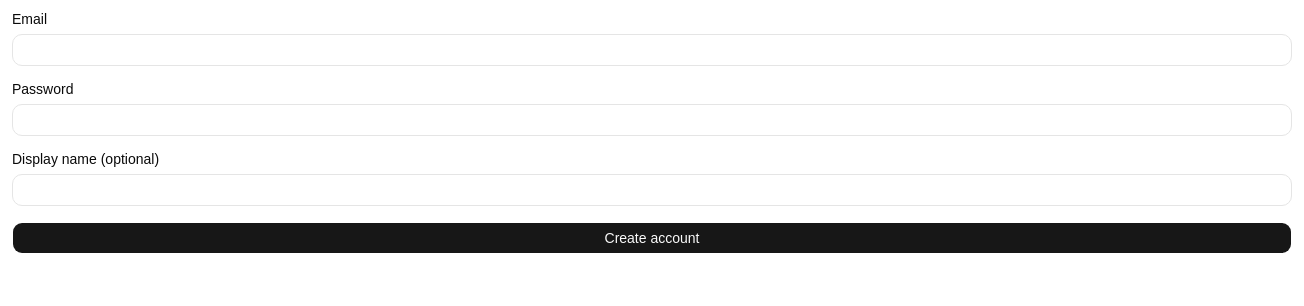
Test: RegisterForm › surfaces an unexpected server error at the form level
Type "grace@example.com" into the field labelled "Email". click: (652, 50)
box: [12,34,1292,66]
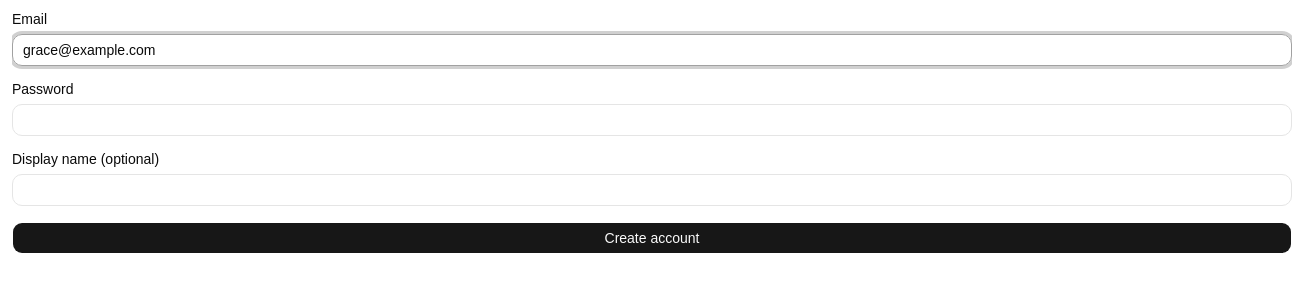
Type "longenough1" into the password field labelled "Password". click: (652, 120)
box: [12,104,1292,136]
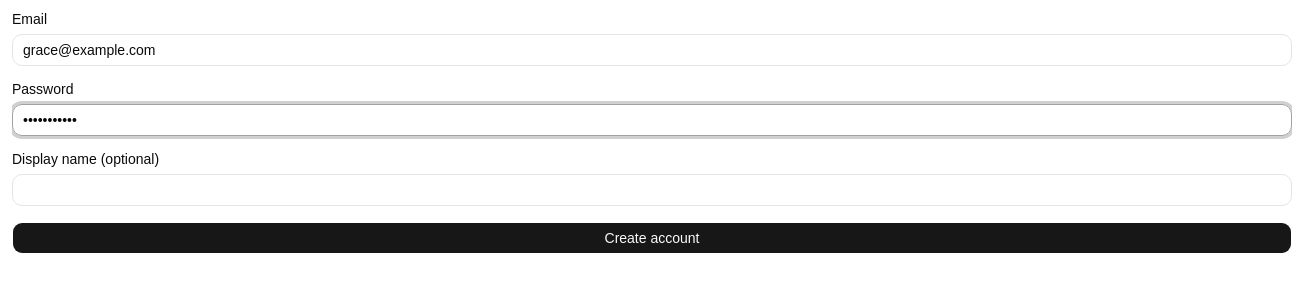
Click the button "Create account". click: (652, 238)
box: [12,222,1292,254]
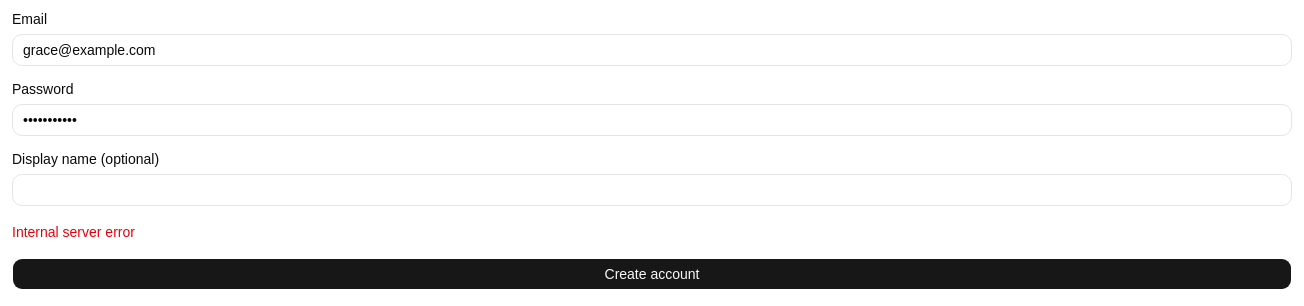
Now the message reads "Internal server error", box [12,224,135,240]
